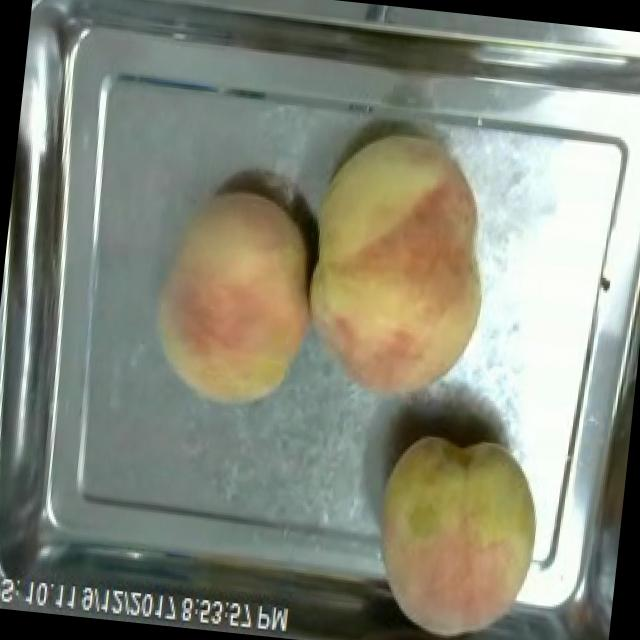Fruit: (288, 118, 508, 414), (140, 176, 332, 418), (359, 419, 559, 640)
